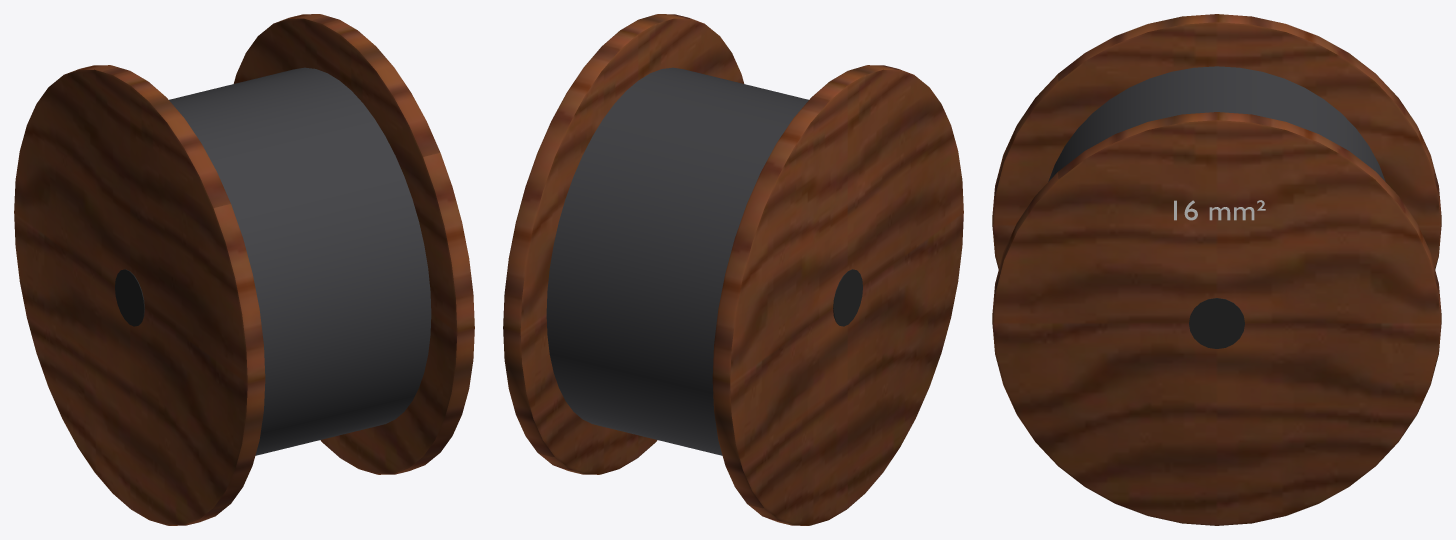
The model's file is ELE-FIO-006_lod1.glb.
3 renders of one model, left to right at view 1: azimuth 30°, elevation 25°; view 2: azimuth 150°, elevation 25°; view 3: azimuth 270°, elevation 25°, orthographic. The views are drawn at different scales.
Visible parts, largest first — view 1: ELE-FIO-006_flange-1, ELE-FIO-006_cabo, ELE-FIO-006_flange1, ELE-FIO-006_furo-1; view 2: ELE-FIO-006_flange-1, ELE-FIO-006_cabo, ELE-FIO-006_flange1, ELE-FIO-006_furo-1; view 3: ELE-FIO-006_flange1, ELE-FIO-006_flange-1, ELE-FIO-006_cabo, ELE-FIO-006_furo1, ELE-FIO-006_texto.
Part boxes in pixels (x1=…): ELE-FIO-006_flange-1: x1=14, y1=65, x2=265, y2=525; ELE-FIO-006_cabo: x1=169, y1=67, x2=431, y2=455; ELE-FIO-006_flange1: x1=233, y1=14, x2=474, y2=474; ELE-FIO-006_furo-1: x1=115, y1=269, x2=144, y2=326; ELE-FIO-006_flange-1: x1=712, y1=65, x2=963, y2=525; ELE-FIO-006_cabo: x1=546, y1=67, x2=808, y2=455; ELE-FIO-006_flange1: x1=503, y1=14, x2=744, y2=474; ELE-FIO-006_furo-1: x1=833, y1=269, x2=862, y2=326; ELE-FIO-006_flange1: x1=992, y1=112, x2=1441, y2=525; ELE-FIO-006_flange-1: x1=992, y1=14, x2=1441, y2=269; ELE-FIO-006_cabo: x1=1048, y1=66, x2=1385, y2=181; ELE-FIO-006_furo1: x1=1189, y1=298, x2=1244, y2=348; ELE-FIO-006_texto: x1=1174, y1=200, x2=1265, y2=220.
Size of the model in its own units: 0.362 by 0.64 by 0.64.
4 materials, 1 textured.
